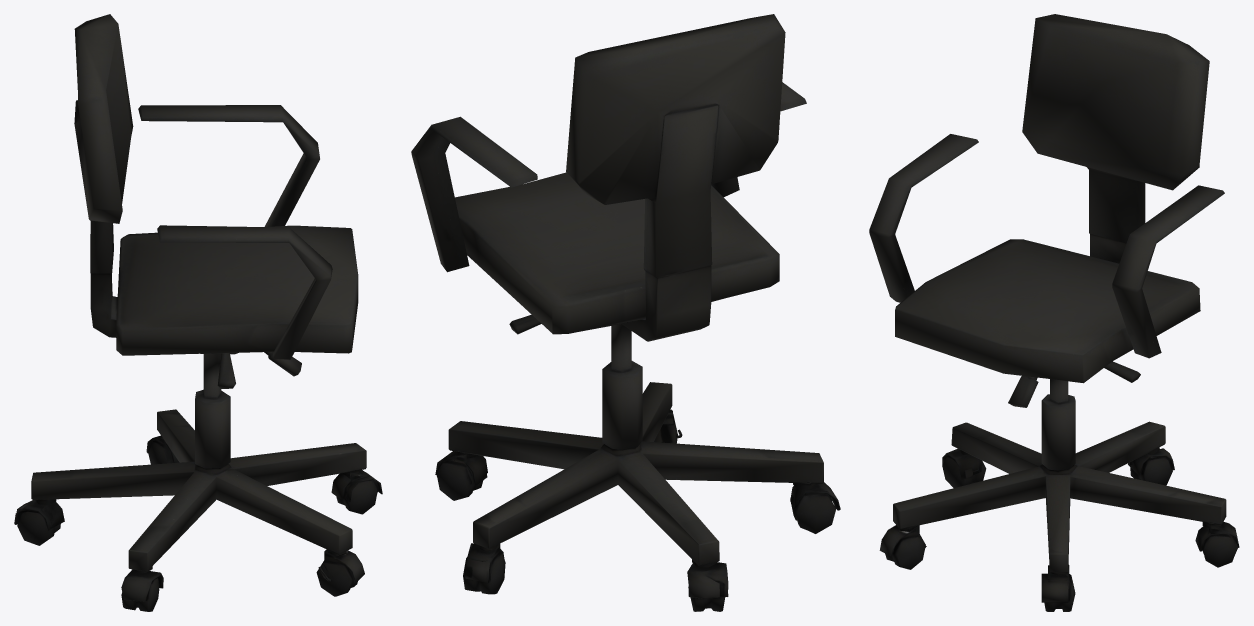
The model's file is gym_office_chair.glb.
3 renders of one model, left to right at view 1: azimuth 30°, elevation 25°; view 2: azimuth 150°, elevation 25°; view 3: azimuth 270°, elevation 25°, orthographic. The views are drawn at different scales.
Visible parts, largest first — view 1: tripo_node_5a4770b4-6d31-453d-979b-6991e675f530; view 2: tripo_node_5a4770b4-6d31-453d-979b-6991e675f530; view 3: tripo_node_5a4770b4-6d31-453d-979b-6991e675f530.
Part boxes in pixels (<box>): tripo_node_5a4770b4-6d31-453d-979b-6991e675f530: <box>14,14,382,611</box>; tripo_node_5a4770b4-6d31-453d-979b-6991e675f530: <box>411,14,840,611</box>; tripo_node_5a4770b4-6d31-453d-979b-6991e675f530: <box>869,14,1239,611</box>.
Bounding box in the file's own units: 0.6536 × 1 × 0.7065.
1 material, 1 textured.
